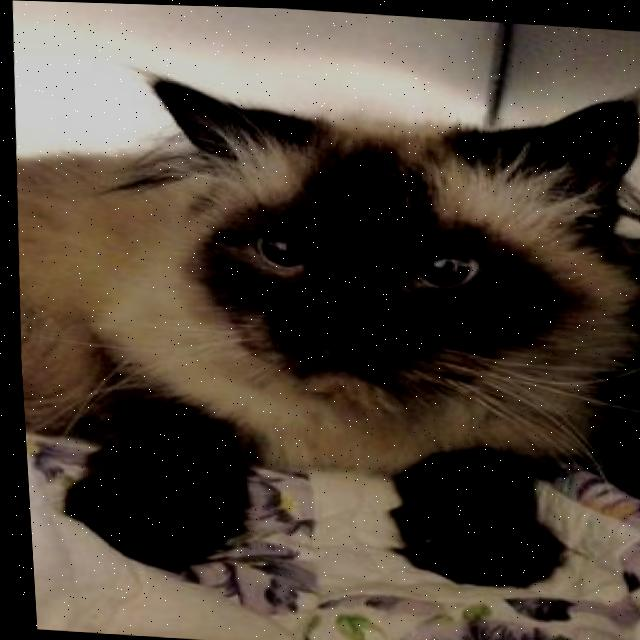Birman: (2, 51, 640, 606)
